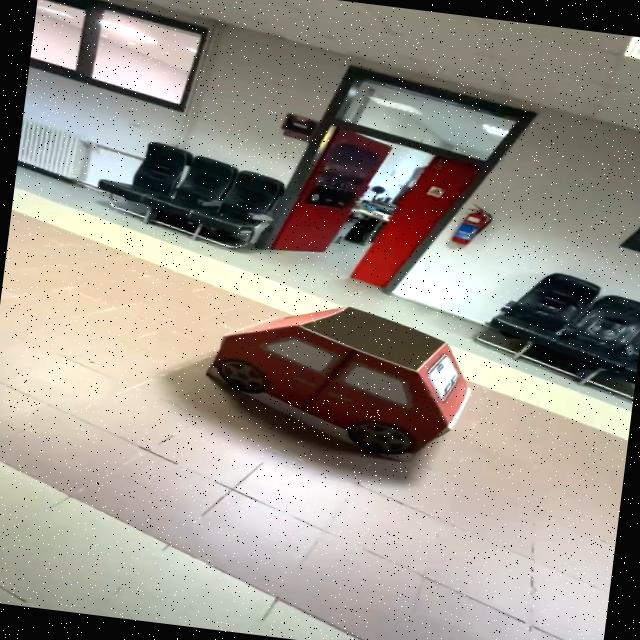red_car: (164, 278, 502, 481)
